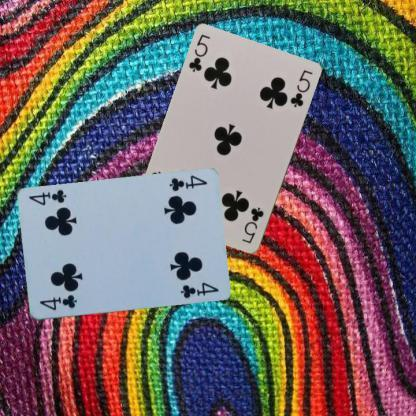4c: (36, 292, 78, 312), (166, 173, 208, 193)
5c: (186, 32, 212, 74), (239, 204, 265, 245)
